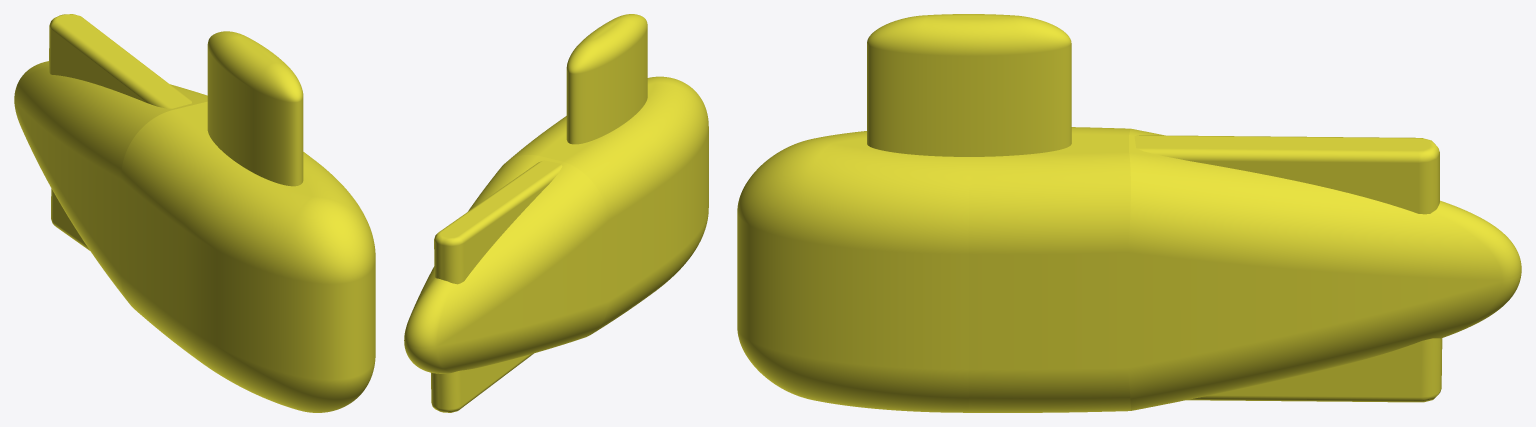
File: submarine.glb
3 renders of one model, left to right at view 1: azimuth 30°, elevation 25°; view 2: azimuth 150°, elevation 25°; view 3: azimuth 270°, elevation 25°, orthographic. The views are drawn at different scales.
Parts seen in each view (by area): view 1: Assembly1; view 2: Assembly1; view 3: Assembly1.
Boxes of the visible parts, x1,y1,x2,y2 form: Assembly1: (14,14,375,412); Assembly1: (404,14,708,412); Assembly1: (737,14,1521,412).
Bounding box in the file's own units: 3.41 × 7.09 × 13.34.
